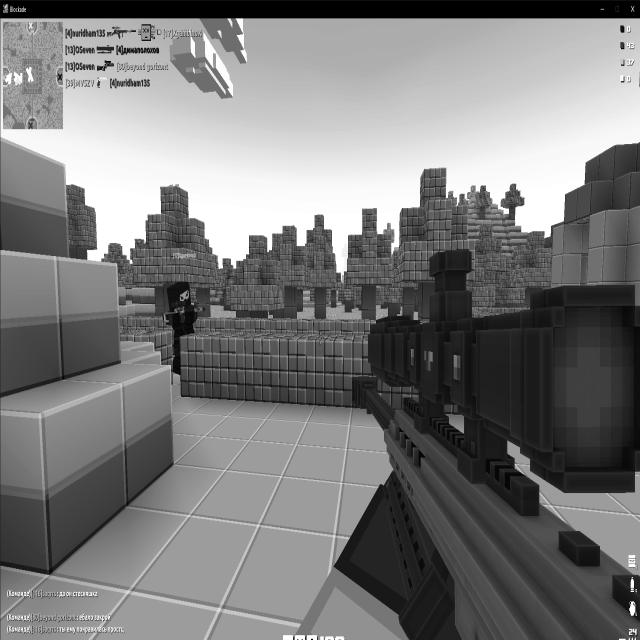Head: (167, 281, 190, 310)
Player: (162, 280, 205, 375)
